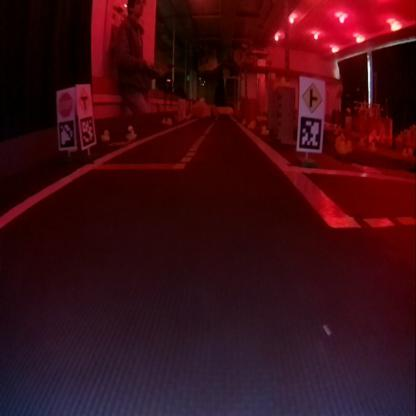Duckie: (125, 126, 136, 138), (100, 129, 109, 141), (260, 125, 268, 134)
Intersection sign: (301, 82, 322, 112), (78, 85, 92, 113)
QR code: (300, 116, 319, 150), (79, 118, 95, 146), (58, 122, 74, 148)
Stop sign: (58, 89, 74, 117)
